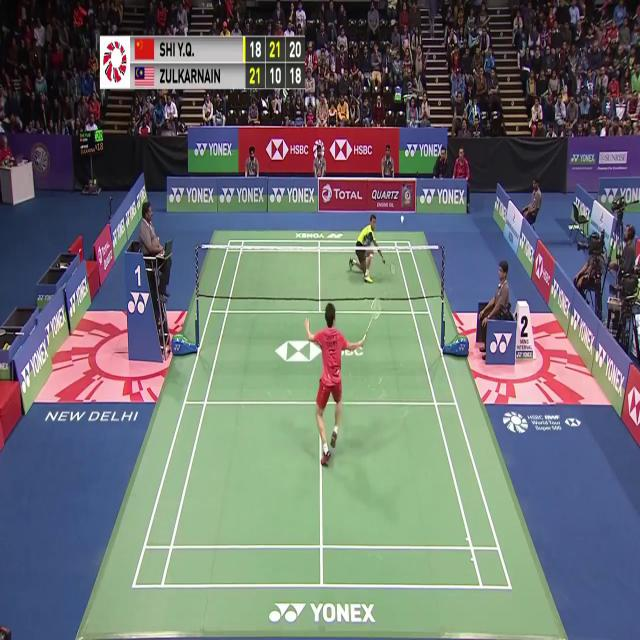Shuttlecock: (398, 216, 404, 227)
